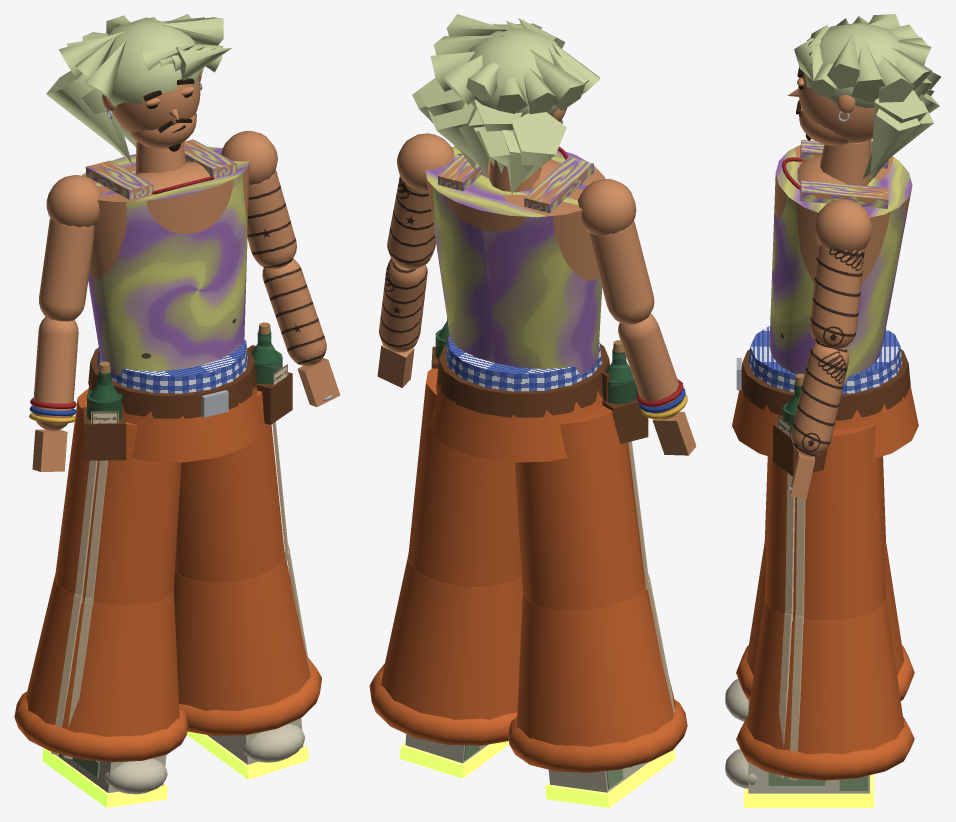
Rendered from gimlet.glb.
3 renders of one model, left to right at view 1: azimuth 30°, elevation 25°; view 2: azimuth 150°, elevation 25°; view 3: azimuth 270°, elevation 25°, orthographic. The views are drawn at different scales.
Parts seen in each view (by area): view 1: spine, knee_R, knee_L, thigh_R, head, hips, thigh_L, shoulder_R, elbow_R, shoulder_L, elbow_L; view 2: spine, knee_R, knee_L, thigh_R, head, hips, thigh_L, shoulder_R, elbow_R, shoulder_L, elbow_L, object 2; view 3: knee_L, spine, thigh_L, head, hips, shoulder_L, elbow_L, knee_R, thigh_R.
Part boxes in pixels (x1,y1,x2,y2): spine: (81,139,249,375); knee_R: (14,574,188,807); knee_L: (173,544,321,779); thigh_R: (55,389,181,605); head: (46,14,231,164); hips: (83,339,292,462); thigh_L: (175,390,288,582); shoulder_R: (39,175,102,321); elbow_R: (29,316,78,471); shoulder_L: (221,131,296,269); elbow_L: (262,258,340,406); spine: (425,146,605,375); knee_R: (507,574,687,807); knee_L: (369,554,522,778); thigh_R: (515,406,648,610); head: (412,14,600,193); hips: (430,335,648,462); thigh_L: (408,368,521,587); shoulder_R: (578,179,654,324); elbow_R: (618,313,696,455); shoulder_L: (387,133,454,269); elbow_L: (377,258,427,387); object 2: (608,378,637,403); knee_L: (725,599,914,807); spine: (769,139,912,384); thigh_L: (764,424,885,623); head: (787,14,941,181); hips: (732,325,918,476); shoulder_L: (810,199,871,348); elbow_L: (788,343,848,499); knee_R: (725,543,914,721); thigh_R: (764,456,885,546).
Bounding box in the file's own units: 0.8649 × 1.99 × 0.5324.
Materials: 22 (4 with a texture image).
